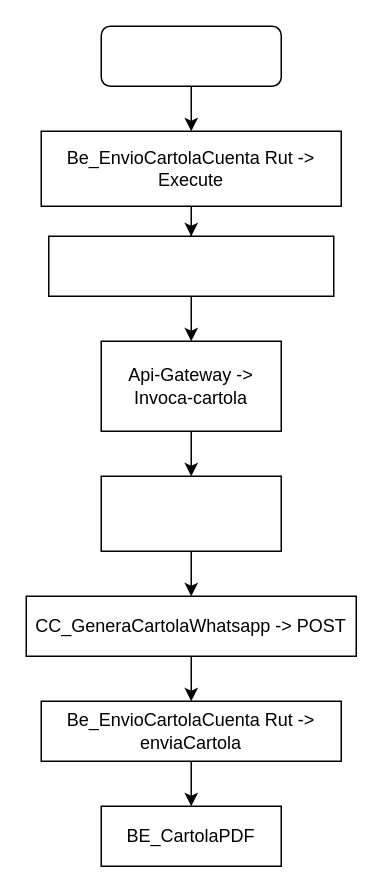
This 383x893 diagram has some shape labels left out. Each missing label, with the centre of its shape:
"CC_InvocaCartola->generaPDF" belongs at (190,265).
"Lambda bech-invoca-cartola-whatsapp" belongs at (190,513).
"Whatsaapp Bot" belongs at (190,55).
